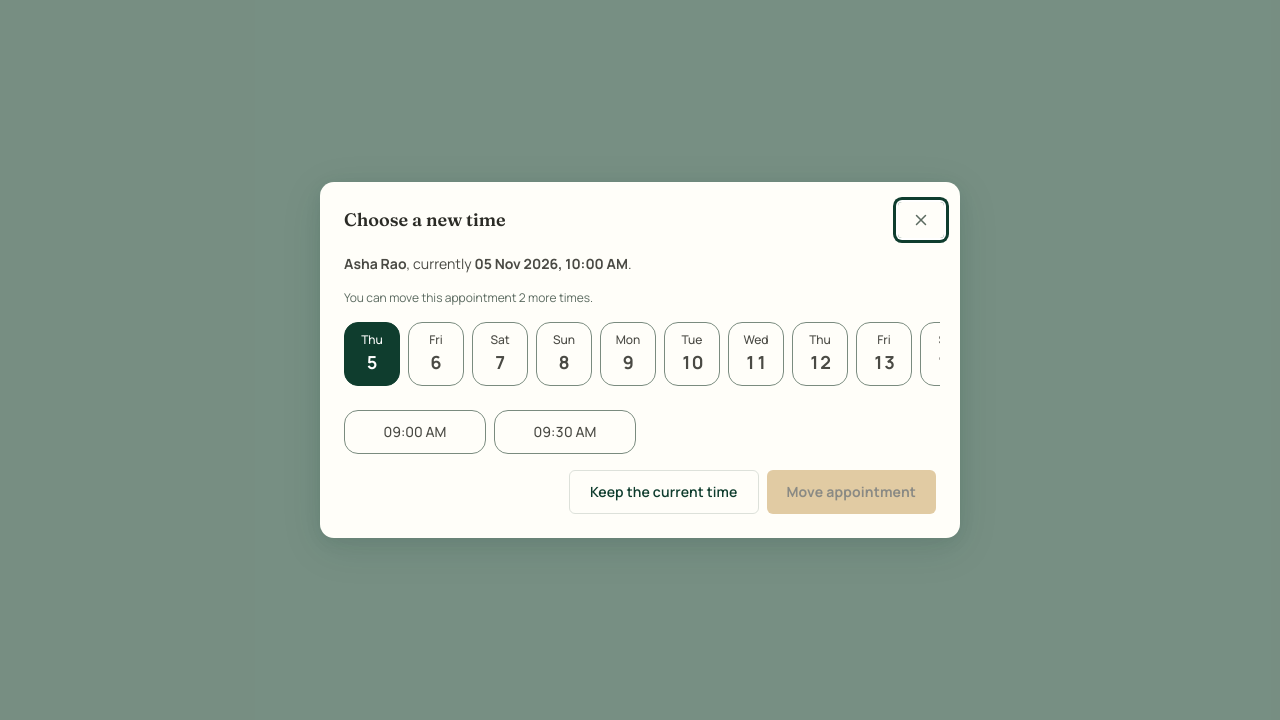
RescheduleDialog › names the person and the current time, and the move button waits for a choice
Check: the dialog "Choose a new time" shows "Asha Rao", box [344,254,406,273]
Check: the dialog "Choose a new time" shows "05 Nov 2026, 10:00 AM", box [474,254,628,273]
Click the button "09:30 AM". click: (565, 432)
box: [494,410,636,454]
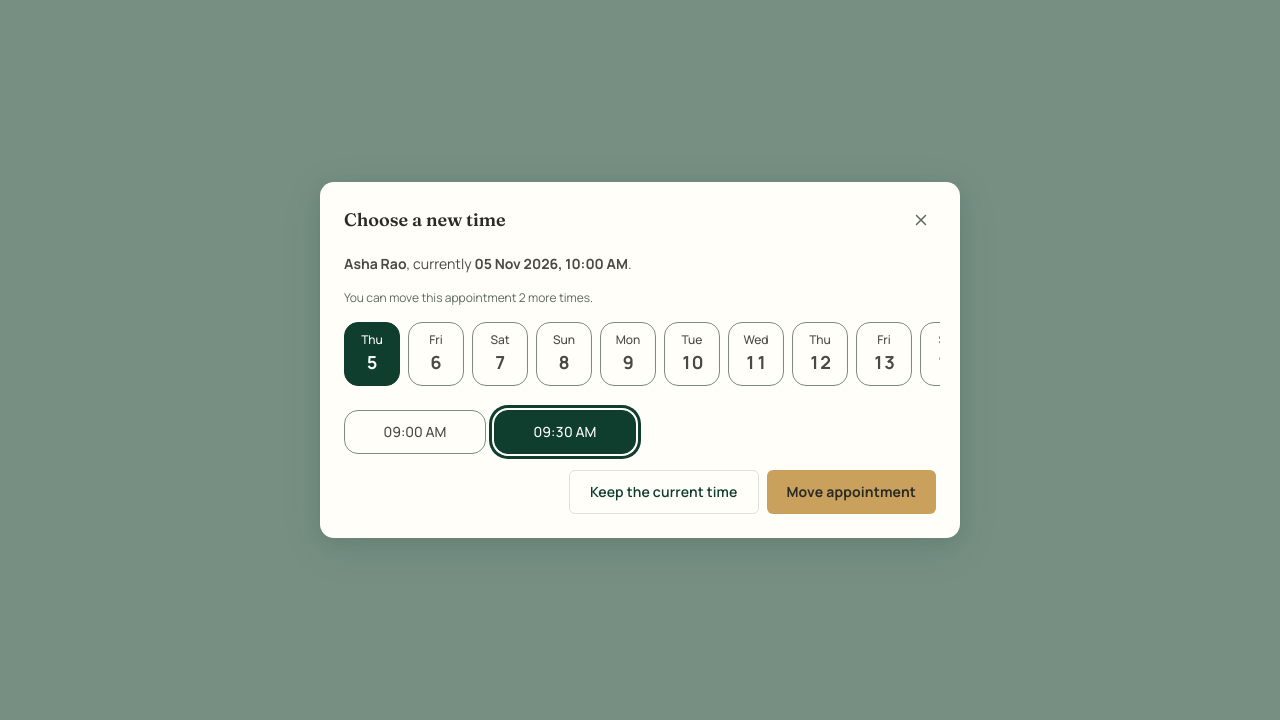
Check: the button "Move appointment" is enabled, box [766,470,936,514]
